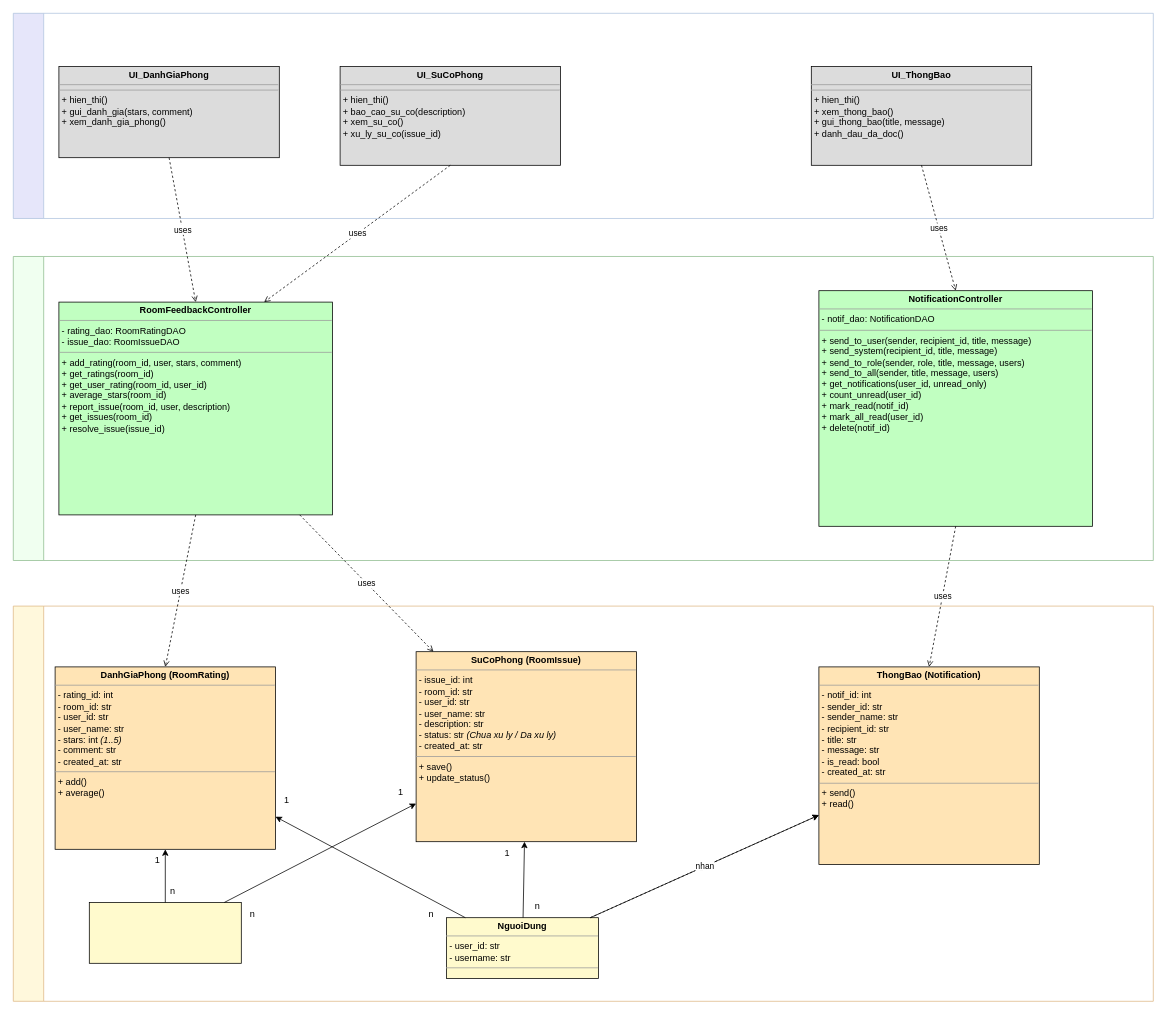
This 1167x1015 diagram has some shape labels left out. Here are the shapes that lost their labels. From the top down, the box of each, then its label:
(13, 13, 1153, 218): TẦNG 1: UI / VIEW
(13, 256, 1153, 560): TẦNG 2: CONTROLLER
(13, 605, 1153, 1001): TẦNG 3: MODEL / ENTITY
(89, 902, 241, 963): PhongHoc - room_id: str - name: str
